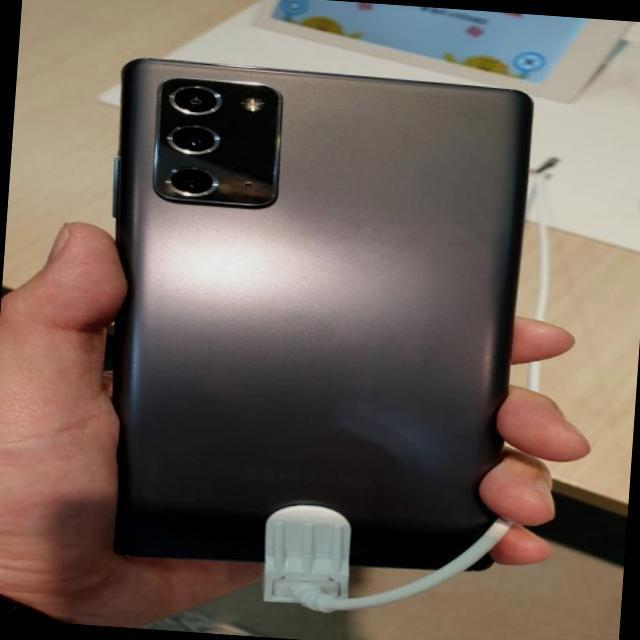lens: (148, 78, 287, 206)
phone: (88, 48, 542, 570)
